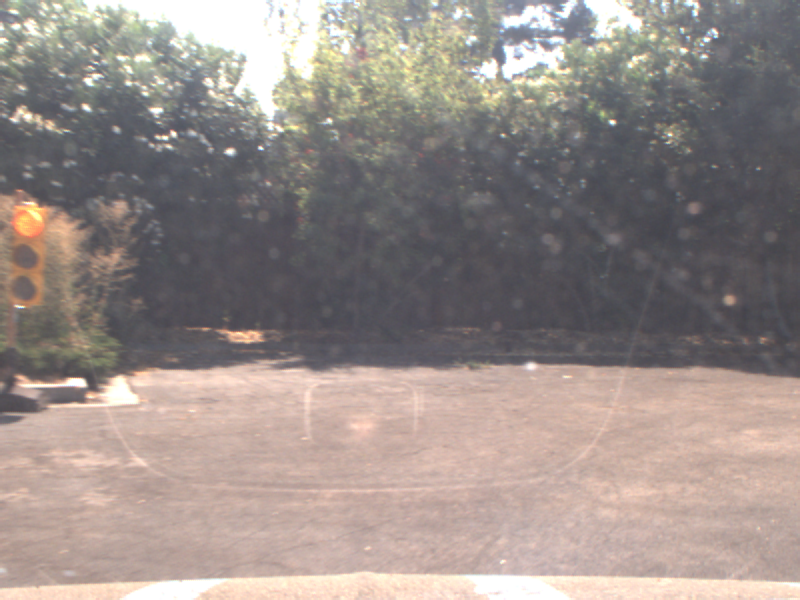red: (8, 203, 44, 308)
